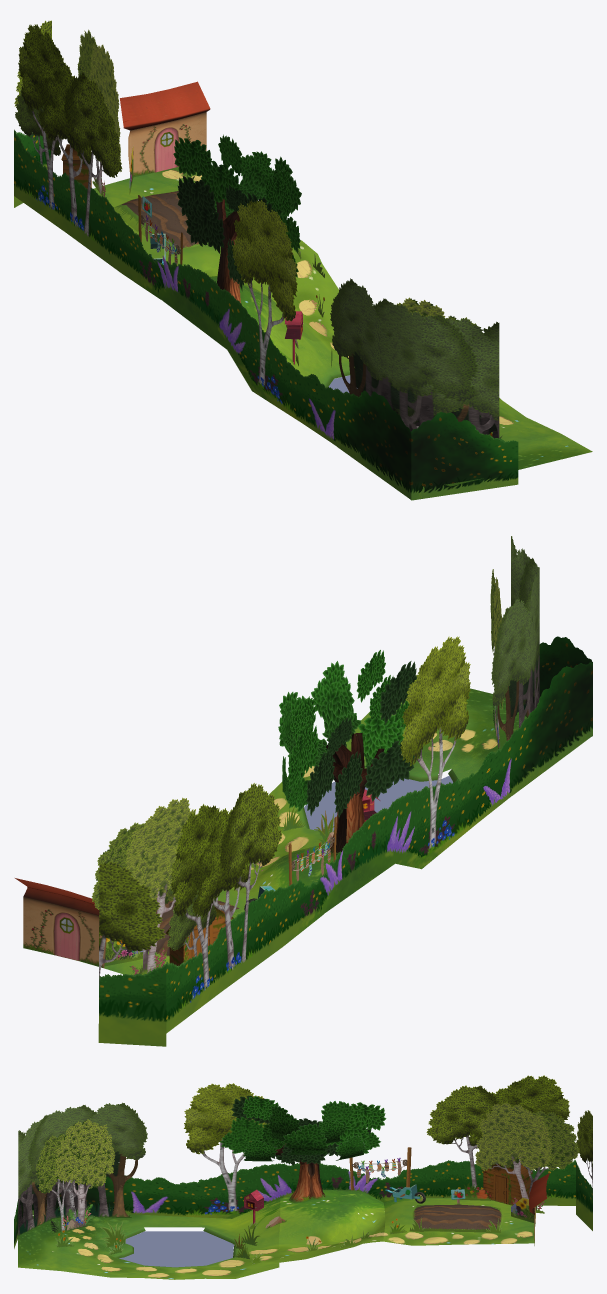
File: garden.dae
3 renders of one model, top to bottom at view 1: azimuth 30°, elevation 25°; view 2: azimuth 150°, elevation 25°; view 3: azimuth 270°, elevation 25°, orthographic. The views are drawn at different scales.
Visible parts, largest first — view 1: hedges_part01, mysteriouswoods_background, hedges_part02, hedges_part04, hedges_part03, grass_middle, grass_bottom, grass_part01, house_roof, vegepatch, shedfoliage_tree, house_outside (+11 smaller); view 2: hedges_part01, hedges_part02, hedges_part05, mysteriouswoods_background, hedges_part03, shedfoliage_tree, grass_bottom, house_outside, grass_middle, treefoliage_020, treetrunk, pond (+18 smaller); view 3: hedges_part02, hedges_part01, mysteriouswoods_background, grass_bottom, shedfoliage_tree, grass_middle, mysteriouswood_foreground, grass_part01, grass_pondfront, pond, vegepatch, hedges_part05 (+23 smaller).
Boxes of the visible parts, bbox=[...] form: hedges_part01: bbox=[14, 24, 160, 299]; mysteriouswoods_background: bbox=[330, 278, 499, 438]; hedges_part02: bbox=[161, 200, 336, 445]; hedges_part04: bbox=[411, 412, 518, 500]; hedges_part03: bbox=[336, 388, 411, 499]; grass_middle: bbox=[203, 240, 338, 341]; grass_bottom: bbox=[263, 330, 592, 486]; grass_part01: bbox=[93, 167, 301, 271]; house_roof: bbox=[120, 81, 210, 130]; vegepatch: bbox=[114, 191, 207, 249]; shedfoliage_tree: bbox=[77, 29, 120, 196]; house_outside: bbox=[128, 112, 206, 177]; hedges_part01: bbox=[166, 783, 323, 1033]; hedges_part02: bbox=[324, 636, 512, 913]; hedges_part05: bbox=[98, 861, 166, 1046]; mysteriouswoods_background: bbox=[491, 536, 539, 740]; hedges_part03: bbox=[512, 662, 592, 795]; shedfoliage_tree: bbox=[91, 797, 195, 974]; grass_bottom: bbox=[276, 688, 526, 852]; house_outside: bbox=[23, 897, 106, 967]; grass_middle: bbox=[232, 844, 336, 896]; treefoliage_020: bbox=[311, 661, 361, 741]; treetrunk: bbox=[325, 733, 384, 857]; pond: bbox=[304, 775, 452, 831]; hedges_part02: bbox=[130, 1083, 372, 1218]; hedges_part01: bbox=[372, 1075, 575, 1205]; mysteriouswoods_background: bbox=[18, 1102, 147, 1235]; grass_bottom: bbox=[18, 1199, 280, 1270]; shedfoliage_tree: bbox=[475, 1102, 579, 1213]; grass_middle: bbox=[279, 1190, 385, 1262]; mysteriouswood_foreground: bbox=[36, 1119, 115, 1233]; grass_part01: bbox=[383, 1198, 535, 1245]; grass_pondfront: bbox=[61, 1256, 279, 1279]; pond: bbox=[119, 1231, 233, 1267]; vegepatch: bbox=[412, 1204, 502, 1229]; hedges_part05: bbox=[576, 1110, 592, 1230].
Bounding box in the file's own units: 49.26 × 54.85 × 198.
Materials: 48 (47 with a texture image).
